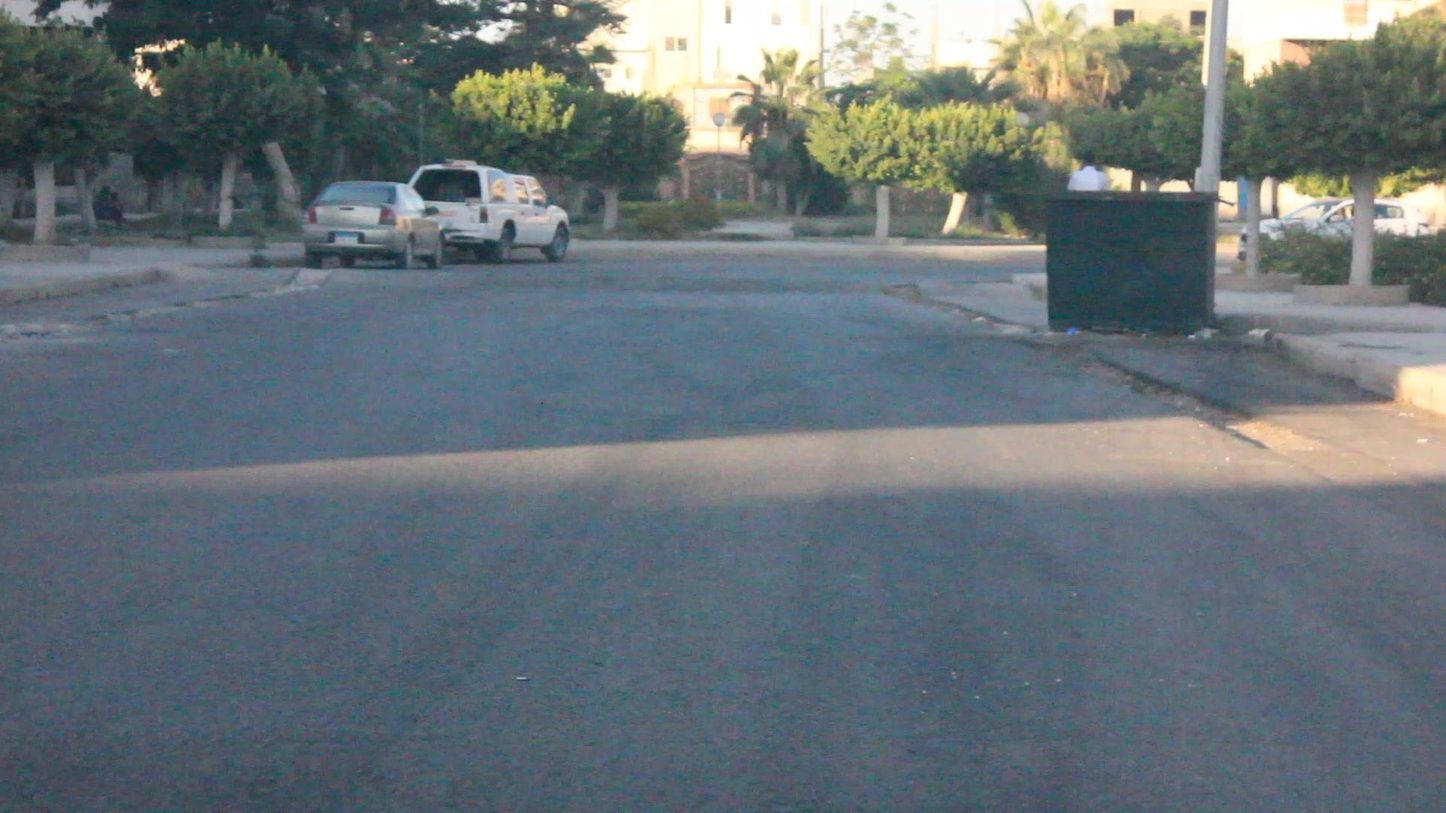Bump: (311, 273, 906, 305)
